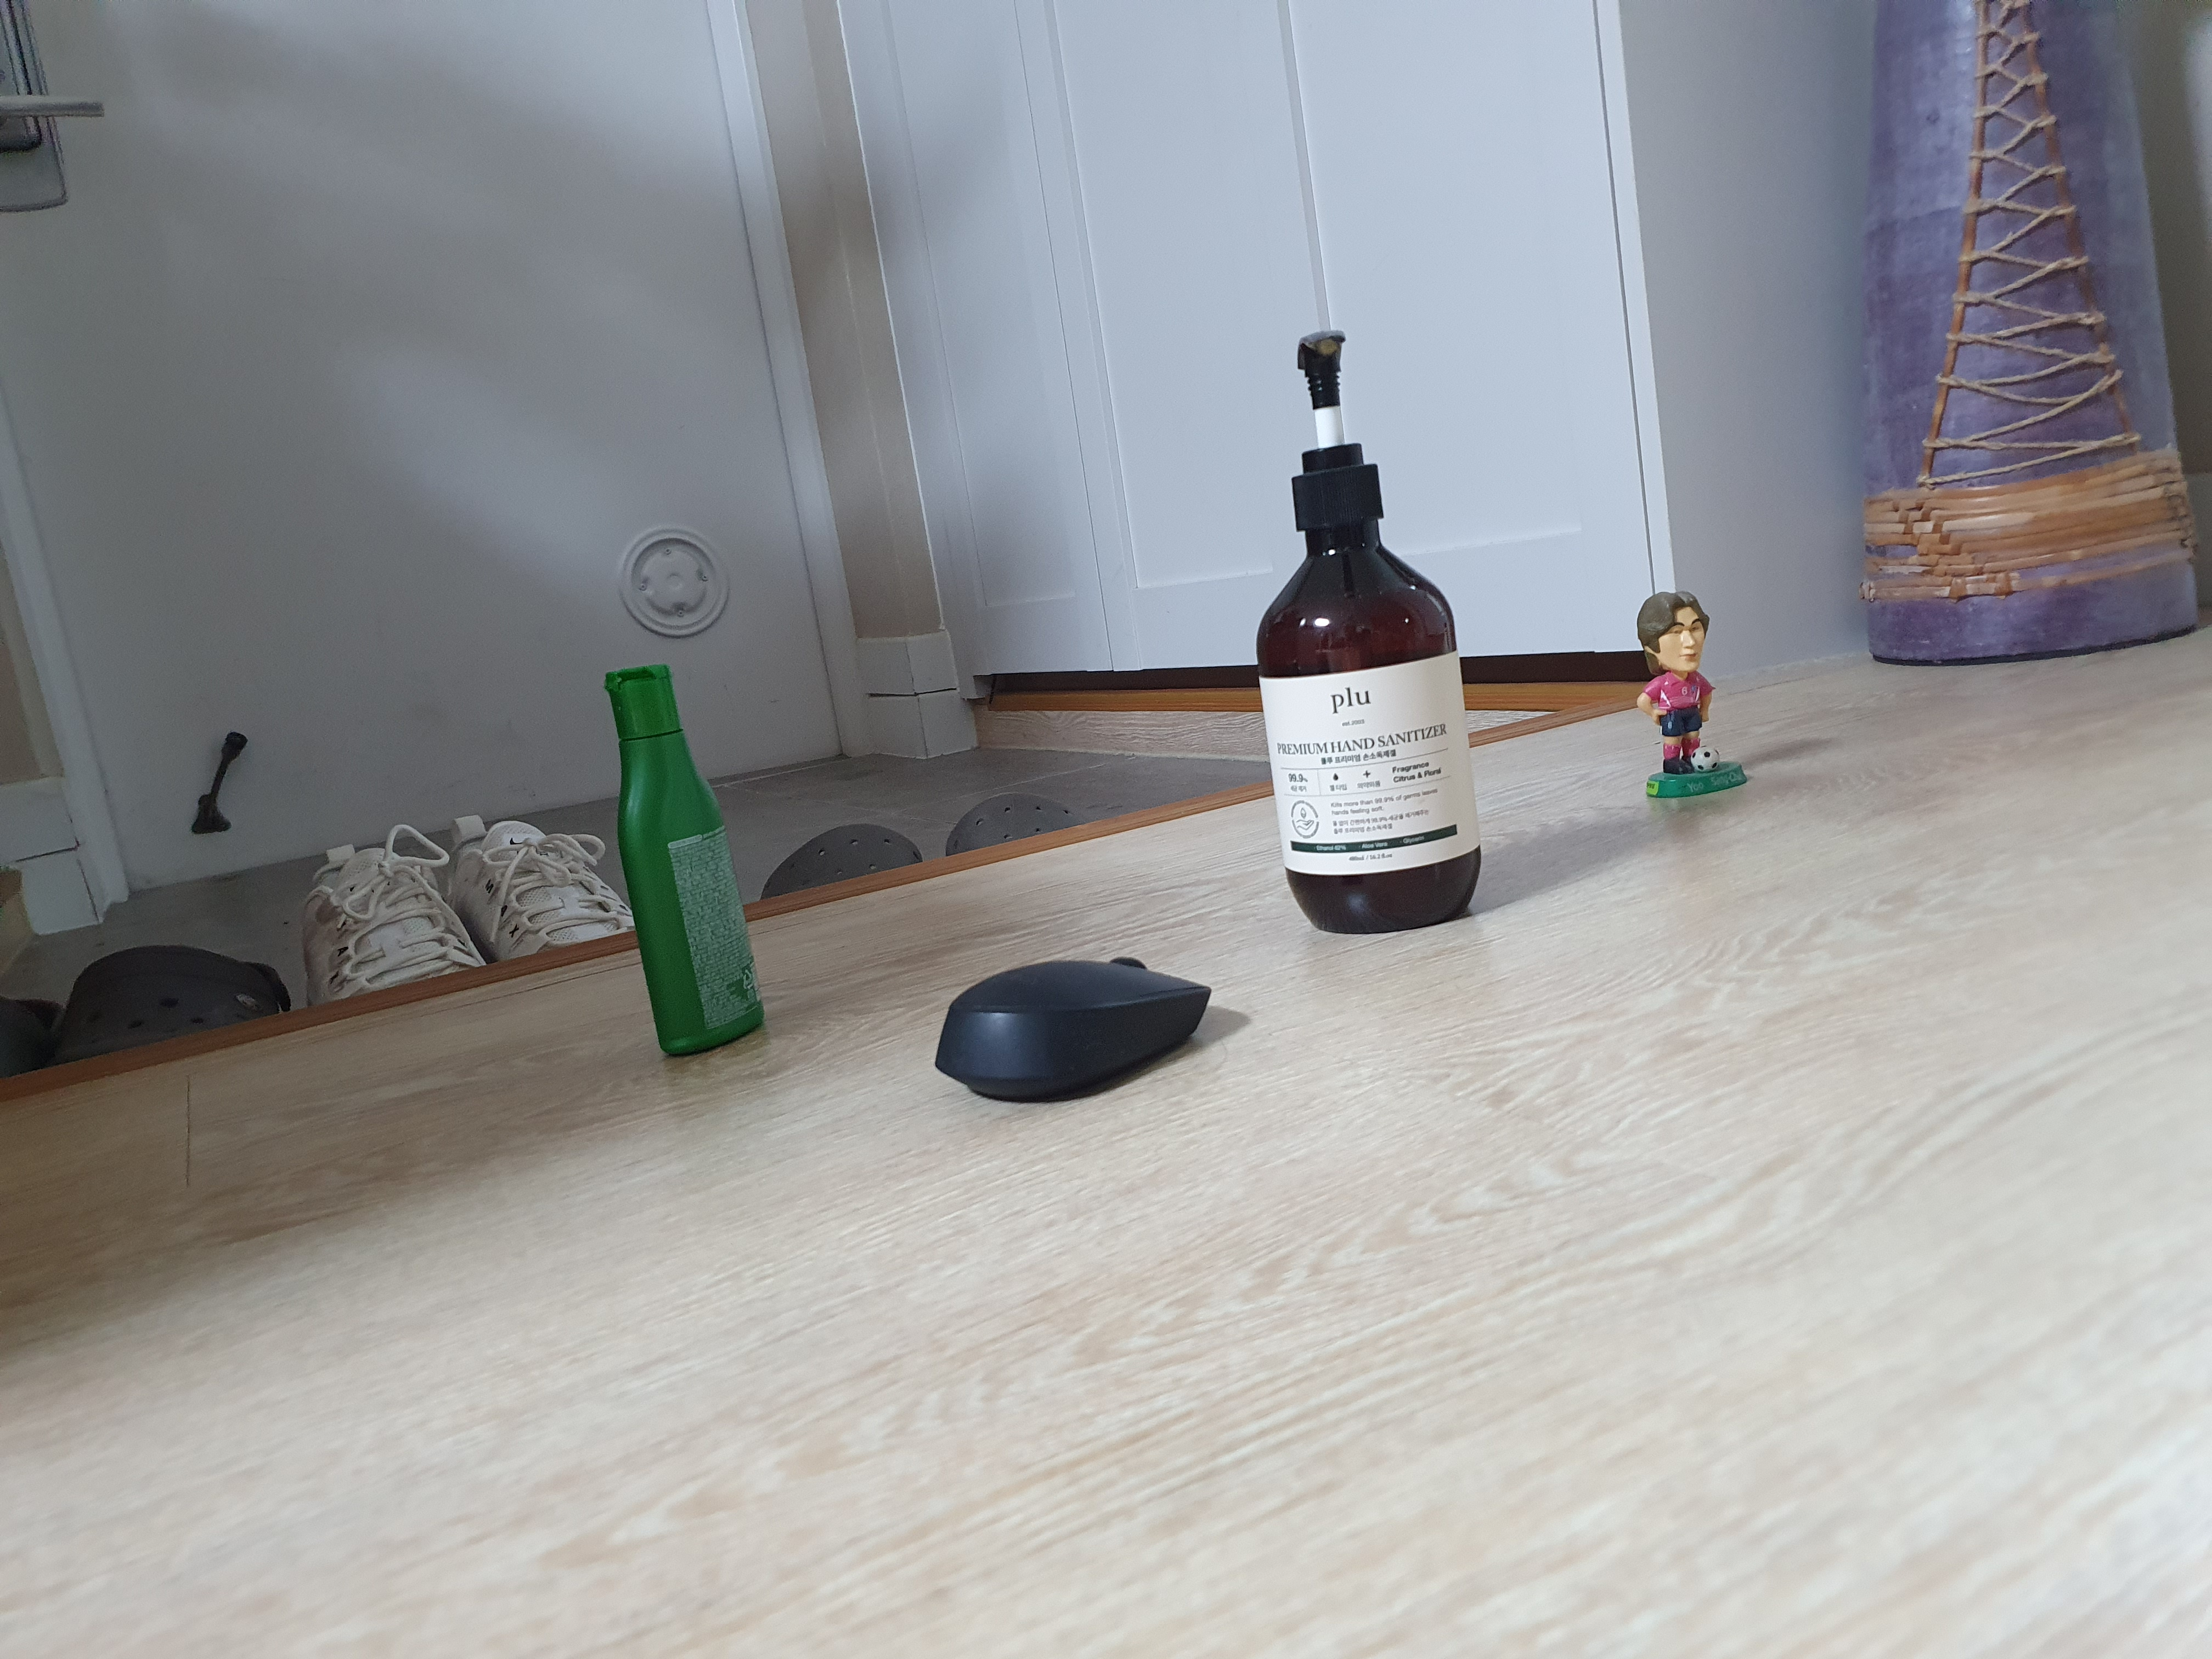bottle: (1228, 300, 1585, 960)
mouse: (892, 915, 1266, 1115)
shampoo: (552, 664, 819, 1091)
yoo: (1632, 549, 1770, 830)
